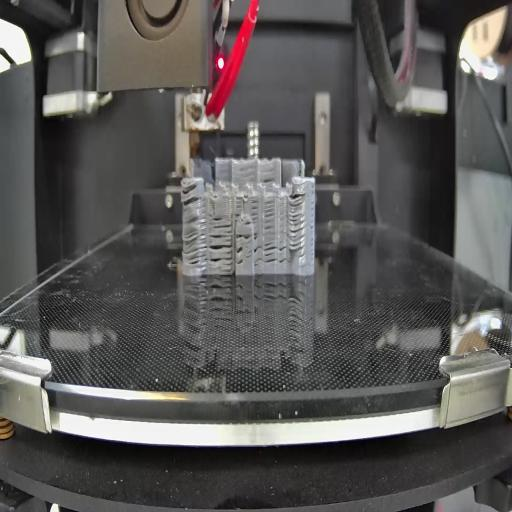cracks: (287, 192, 305, 260), (209, 234, 232, 270), (183, 233, 208, 266), (264, 243, 288, 266), (310, 184, 315, 267), (263, 199, 276, 230), (182, 185, 201, 205), (213, 217, 234, 230), (235, 230, 258, 241), (250, 200, 258, 223), (184, 218, 206, 226), (253, 246, 262, 265), (236, 247, 244, 268), (235, 199, 242, 219), (261, 179, 276, 183)
